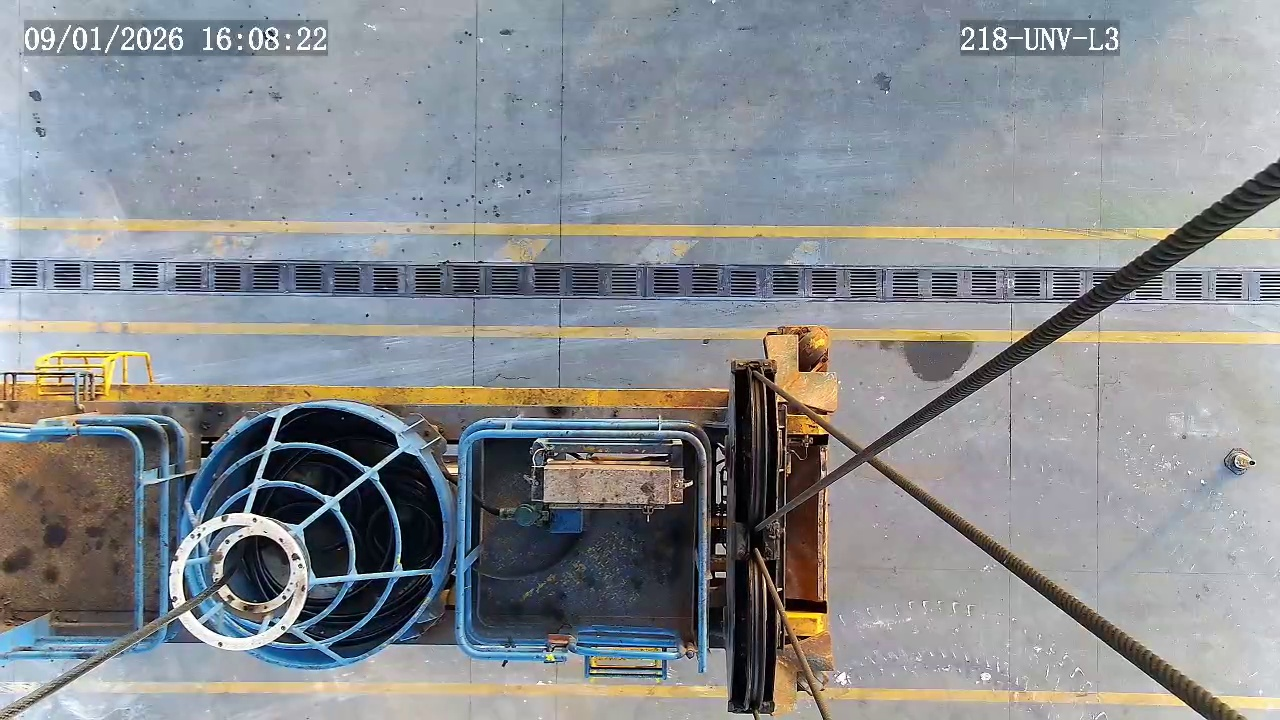right: (179, 402, 447, 669)
